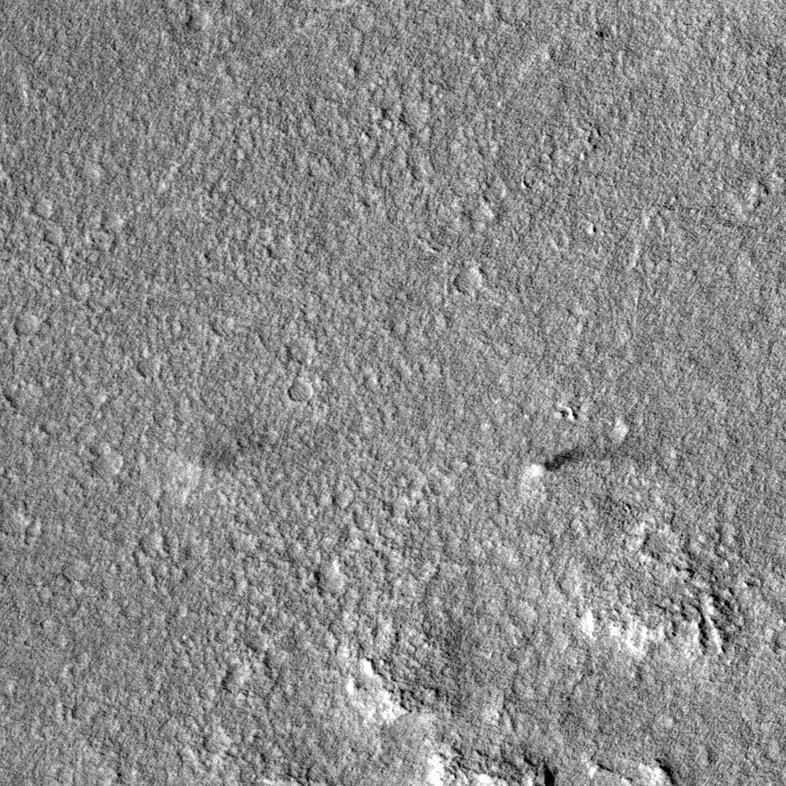dust_devil: (522, 445, 587, 481)
